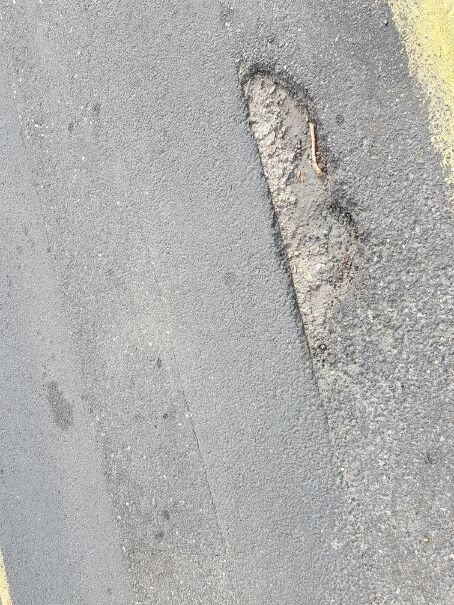pothole: (237, 52, 381, 375)
